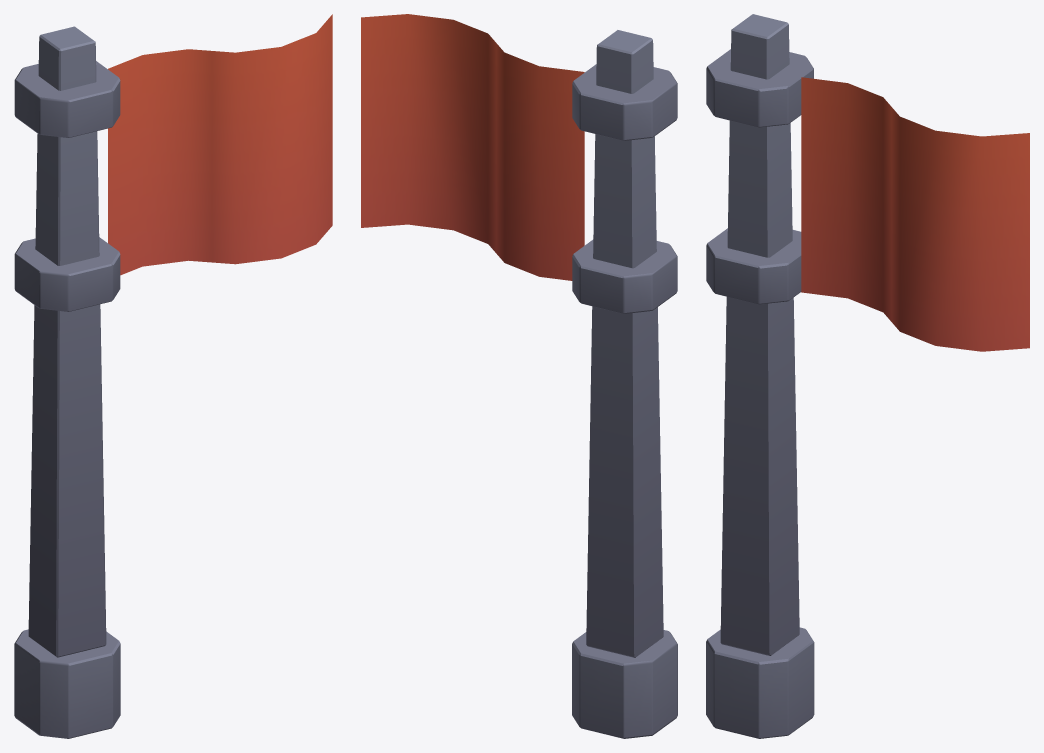
Rendered from kenney-platformer__flag.glb.
3 renders of one model, left to right at view 1: azimuth 30°, elevation 25°; view 2: azimuth 150°, elevation 25°; view 3: azimuth 330°, elevation 25°, orthographic. The views are drawn at different scales.
Visible parts, largest first — view 1: flag; view 2: flag; view 3: flag.
Part boxes in pixels (x1,y1,x2,y2): flag: (14, 14, 332, 738); flag: (361, 14, 677, 738); flag: (706, 14, 1029, 738).
Size of the model in its own units: 0.4235 by 0.9 by 0.112.
1 material, 1 textured.
